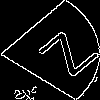Z: (25, 24, 100, 78)
